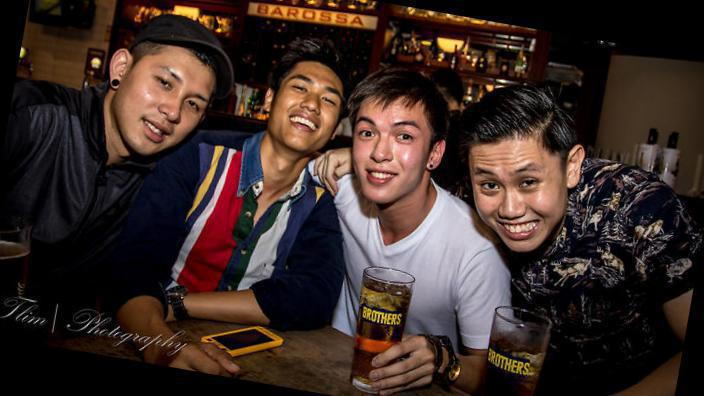Drunk: (469, 143, 560, 250), (129, 52, 202, 152), (355, 103, 425, 202), (276, 64, 338, 149)
